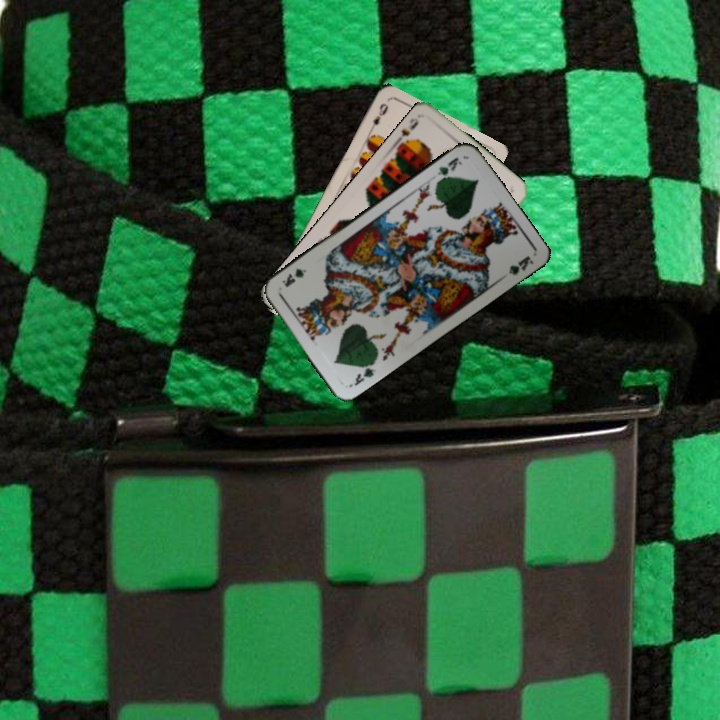E9: (365, 99, 391, 134)
GK: (433, 153, 464, 185), (350, 357, 379, 388)
S9: (391, 114, 421, 149)
